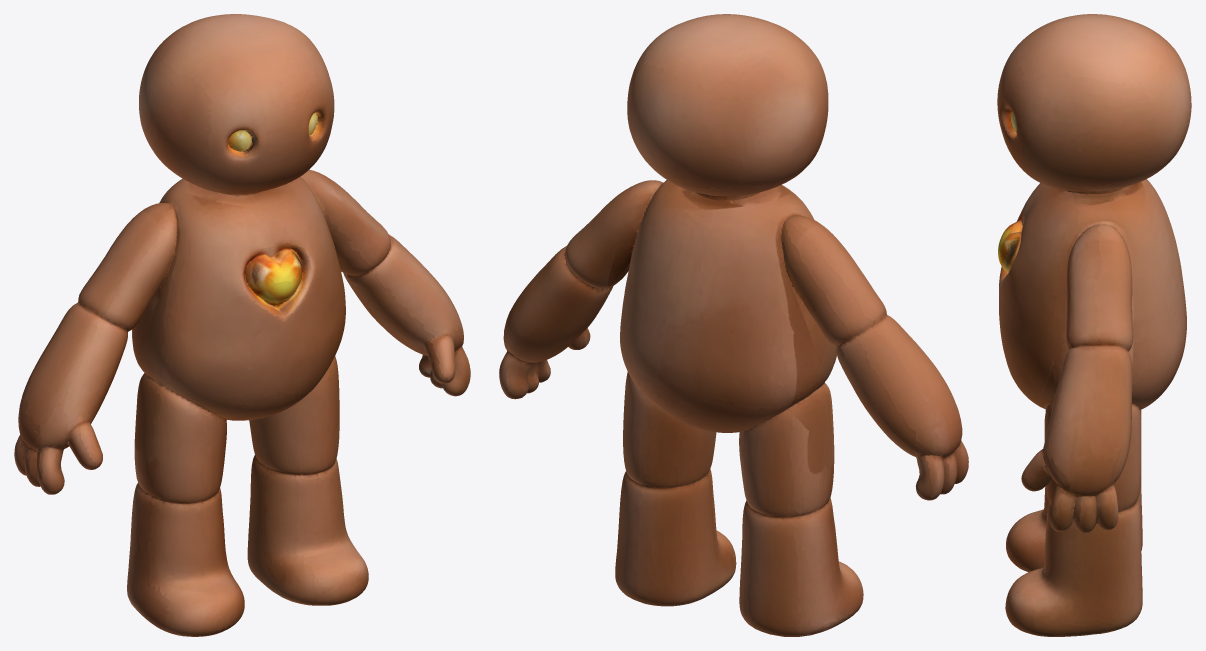
Rendered from hero_model.glb.
3 views of the same model, side by side, from view 1: azimuth 30°, elevation 25°; view 2: azimuth 150°, elevation 25°; view 3: azimuth 270°, elevation 25° (orthographic). The views are drawn at different scales.
Visible parts, largest first — view 1: geometry_0; view 2: geometry_0; view 3: geometry_0.
Boxes of the visible parts, x1=… form: geometry_0: x1=14, y1=14, x2=470, y2=636; geometry_0: x1=499, y1=14, x2=968, y2=636; geometry_0: x1=997, y1=14, x2=1191, y2=636.
Size of the model in its own units: 0.1607 by 0.2 by 0.0626.
Materials: 1 (1 with a texture image).
